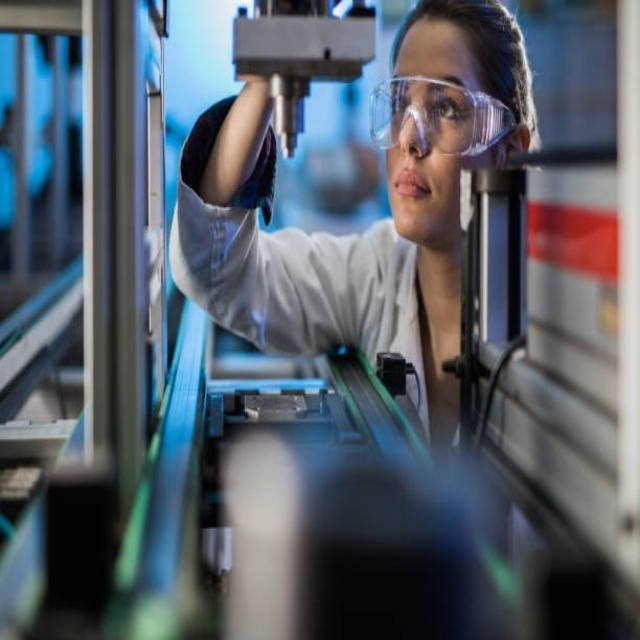Gafas: (369, 77, 517, 157)
Sin_mascara: (389, 160, 435, 221)
